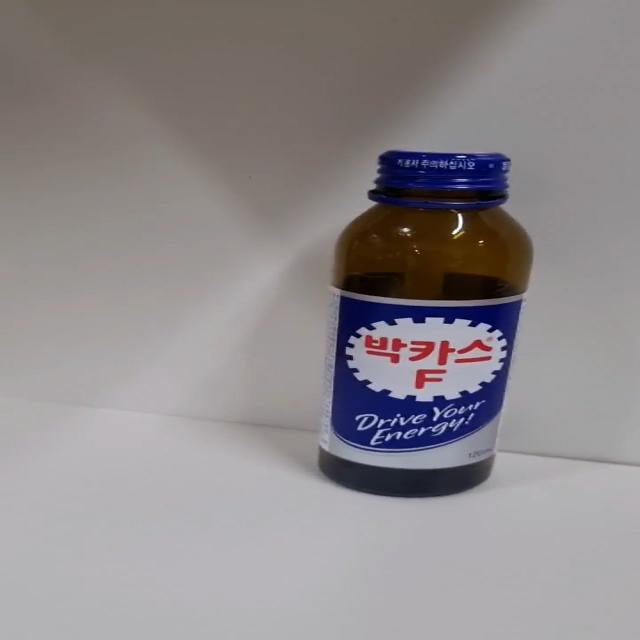Glass: (316, 150, 535, 499)
